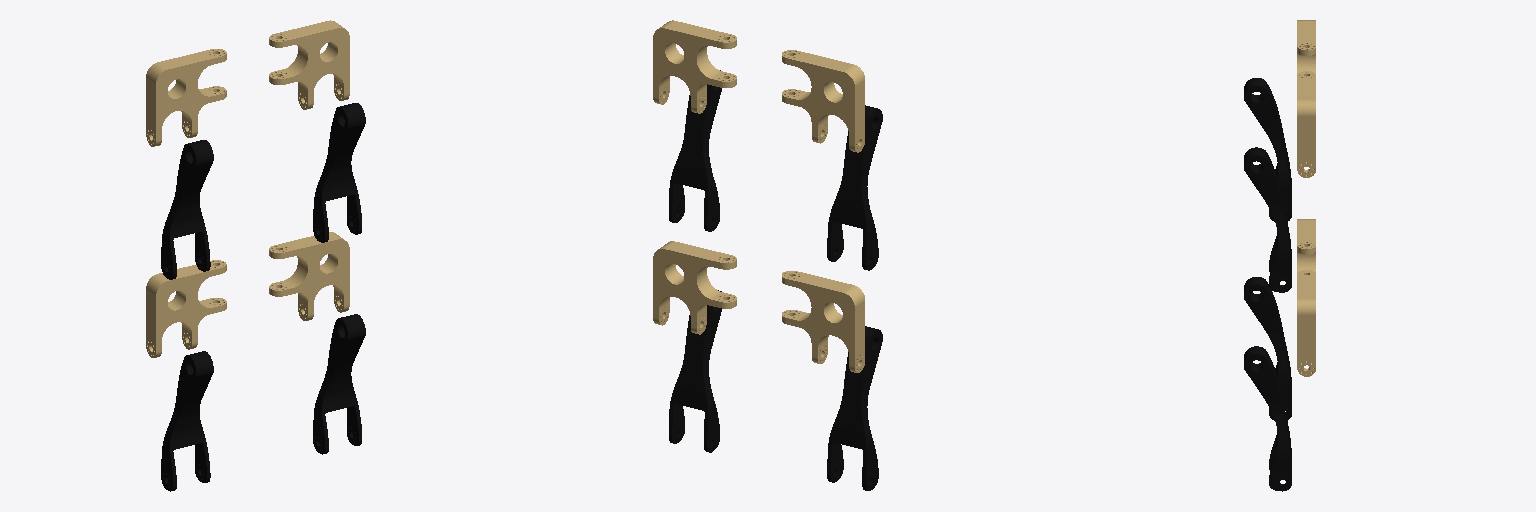
URDF robot description (quadruped):
<?xml version="1.0"?>
<robot name="quadruped">

  <!-- right is +x, top is +y, back is +z, -->

  <!-- Base body link -->
  <link name="body">
    <visual>
      <geometry>
        <mesh filename="../meshes/body_with_motor_v1.stl" scale="0.001 0.001 0.001"/>
      </geometry>
      <material name="body_color">
        <color rgba="0.4 0.5 0.3 1.0"/>
      </material>
    </visual>
  </link>

  <!-- back right coupler -->
  <link name="back_right_coupler">
    <visual>
      <geometry>
        <mesh filename="../meshes/coupler_v1.stl" scale="0.001 0.001 0.001"/>
      </geometry>
      <material name="coupler_color">
        <color rgba="0.8 0.7 0.5 1.0"/>
      </material>
    </visual>
  </link>

  <!-- back left coupler -->
  <link name="back_left_coupler">
    <visual>
      <geometry>
        <mesh filename="../meshes/coupler_v1.stl" scale="0.001 0.001 0.001"/>
      </geometry>
      <material name="coupler_color">
        <color rgba="0.8 0.7 0.5 1.0"/>
      </material>
    </visual>
  </link>

  <!-- front left coupler -->
  <link name="front_left_coupler">
    <visual>
      <geometry>
        <mesh filename="../meshes/coupler_v1.stl" scale="0.001 0.001 0.001"/>
      </geometry>
      <material name="coupler_color">
        <color rgba="0.8 0.7 0.5 1.0"/>
      </material>
    </visual>
  </link>
  
  <!-- front right coupler -->
  <link name="front_right_coupler">
    <visual>
      <geometry>
        <mesh filename="../meshes/coupler_v1.stl" scale="0.001 0.001 0.001"/>
      </geometry>
      <material name="coupler_color">
        <color rgba="0.8 0.7 0.5 1.0"/>
      </material>
    </visual>
  </link>

  <!-- back right upper leg -->
  <link name="back_right_upper_leg">
    <visual>
      <geometry>
        <mesh filename="../meshes/leg_upper_with_motor_v1.5.stl" scale="0.001 0.001 0.001"/>
      </geometry>
      <material name="leg_color">
        <color rgba="0.2 0.4 0.2 1.0"/>
      </material>
    </visual>
  </link>

  <!-- back left upper leg -->
  <link name="back_left_upper_leg">
    <visual>
      <geometry>
        <mesh filename="../meshes/leg_upper_with_motor_v1.5.stl" scale="0.001 0.001 0.001"/>
      </geometry>
      <material name="leg_color">
        <color rgba="0.2 0.4 0.2 1.0"/>
      </material>
    </visual>
  </link>

  <!-- front left upper leg -->
  <link name="front_left_upper_leg">
    <visual>
      <geometry>
        <mesh filename="../meshes/leg_upper_with_motor_v1.5.stl" scale="0.001 0.001 0.001"/>
      </geometry>
      <material name="leg_color">
        <color rgba="0.2 0.4 0.2 1.0"/>
      </material>
    </visual>
  </link>

  <!-- front right upper leg -->
  <link name="front_right_upper_leg">
    <visual>
      <geometry>
        <mesh filename="../meshes/leg_upper_with_motor_v1.5.stl" scale="0.001 0.001 0.001"/>
      </geometry>
      <material name="leg_color">
        <color rgba="0.2 0.4 0.2 1.0"/>
      </material>
    </visual>
  </link>

  <!-- back right lower leg -->
  <link name="back_right_lower_leg">
    <visual>
      <geometry>
        <mesh filename="../meshes/leg_lower_v3.stl" scale="0.001 0.001 0.001"/>
      </geometry>
      <material name="lower_leg_color">
        <color rgba="0.1 0.1 0.1 1.0"/>
      </material>
    </visual>
  </link>

  <!-- back left lower leg -->
  <link name="back_left_lower_leg">
    <visual>
      <geometry>
        <mesh filename="../meshes/leg_lower_v3.stl" scale="0.001 0.001 0.001"/>
      </geometry>
      <material name="lower_leg_color">
        <color rgba="0.1 0.1 0.1 1.0"/>
      </material>
    </visual>
  </link>

  <!-- front left lower leg -->
  <link name="front_left_lower_leg">
    <visual>
      <geometry>
        <mesh filename="../meshes/leg_lower_v3.stl" scale="0.001 0.001 0.001"/>
      </geometry>
      <material name="lower_leg_color">
        <color rgba="0.1 0.1 0.1 1.0"/>
      </material>
    </visual>
  </link>

  <!-- front right lower leg -->
  <link name="front_right_lower_leg">
    <visual>
      <geometry>
        <mesh filename="../meshes/leg_lower_v3.stl" scale="0.001 0.001 0.001"/>
      </geometry>
      <material name="lower_leg_color">
        <color rgba="0.1 0.1 0.1 1.0"/>
      </material>
    </visual>
  </link>

  <!-- Joint connecting body to back right coupler -->
  <joint name="back_right_hipX" type="revolute">
    <parent link="body"/>
    <child link="back_right_coupler"/>
    <origin xyz="0.0 0.0 0.0" rpy="0 0 3.14"/>
    <axis xyz="0 0 1"/>
    <limit lower="-1.57" upper="1.57" effort="10.0" velocity="5.0"/>
  </joint>

  <!-- Joint connecting body to back left coupler -->
  <joint name="back_left_hipX" type="revolute">
    <parent link="body"/>
    <child link="back_left_coupler"/>
    <origin xyz="0.1083 0.0 0.0" rpy="0 0 0.0"/>
    <axis xyz="0 0 1"/>
    <limit lower="-1.57" upper="1.57" effort="10.0" velocity="5.0"/>
  </joint>

  <!-- Joint connecting body to front left coupler -->
  <joint name="front_left_hipX" type="revolute">
    <parent link="body"/>
    <child link="front_left_coupler"/>
    <origin xyz="0.1083 -0.0 0.3491" rpy="0 0 0"/>
    <axis xyz="0 0 1"/>
    <limit lower="-1.57" upper="1.57" effort="10.0" velocity="5.0"/>
  </joint>

  <!-- Joint connecting body to front right coupler -->
  <joint name="front_right_hipX" type="revolute">
    <parent link="body"/>
    <child link="front_right_coupler"/>
    <origin xyz="0.0 -0.0 0.3491" rpy="0 0 3.14"/>
    <axis xyz="0 0 1"/>
    <limit lower="-1.57" upper="1.57" effort="10.0" velocity="5.0"/>
  </joint>

  <!-- Joint connecting back right coupler to upper leg -->
  <joint name="back_right_hipY" type="revolute">
    <parent link="back_right_coupler"/>
    <child link="back_right_upper_leg"/>
    <origin xyz="0.077 0.0 -0.077" rpy="0 1.57 3.14"/>
    <axis xyz="0 0 1"/>
    <limit lower="-1.57" upper="1.57" effort="10.0" velocity="5.0"/>
  </joint>

  <!-- Joint connecting back left coupler to upper leg -->
  <joint name="back_left_hipY" type="revolute">
    <parent link="back_left_coupler"/>
    <child link="back_left_upper_leg"/>
    <origin xyz="0.077 0.0 -0.077" rpy="0 1.57 0.0"/>
    <axis xyz="0 0 1"/>
    <limit lower="-1.57" upper="1.57" effort="10.0" velocity="5.0"/>
  </joint>

  <!-- Joint connecting front left coupler to upper leg -->
  <joint name="front_left_hipY" type="revolute">
    <parent link="front_left_coupler"/>
    <child link="front_left_upper_leg"/>
    <origin xyz="0.077 0.0 -0.077" rpy="0 1.57 0"/>
    <axis xyz="0 0 1"/>
    <limit lower="-1.57" upper="1.57" effort="10.0" velocity="5.0"/>
  </joint>

  <!-- Joint connecting front right coupler to upper leg -->
  <joint name="front_right_hipY" type="revolute">
    <parent link="front_right_coupler"/>
    <child link="front_right_upper_leg"/>
    <origin xyz="0.077 0.0 -0.077" rpy="0 1.57 3.14"/>
    <axis xyz="0 0 1"/>
    <limit lower="-1.57" upper="1.57" effort="10.0" velocity="5.0"/>
  </joint>

  <!-- Joint connecting back right upper leg to lower leg -->
  <joint name="back_right_knee" type="revolute">
    <parent link="back_right_upper_leg"/>
    <child link="back_right_lower_leg"/>
    <origin xyz="0.203 -0.038 0.0" rpy="0 3.14 0"/>
    <axis xyz="0 0 1"/>
    <limit lower="-1.57" upper="1.57" effort="10.0" velocity="5.0"/>
  </joint>

  <!-- Joint connecting back left upper leg to lower leg -->
  <joint name="back_left_knee" type="revolute">
    <parent link="back_left_upper_leg"/>
    <child link="back_left_lower_leg"/>
    <origin xyz="0.203 -0.038 0.0" rpy="0 3.14 0"/>
    <axis xyz="0 0 1"/>
    <limit lower="-1.57" upper="1.57" effort="10.0" velocity="5.0"/>
  </joint>

  <!-- Joint connecting front left upper leg to lower leg -->
  <joint name="front_left_knee" type="revolute">
    <parent link="front_left_upper_leg"/>
    <child link="front_left_lower_leg"/>
    <origin xyz="0.203 -0.038 0.0" rpy="0 3.14 0"/>
    <axis xyz="0 0 1"/>
    <limit lower="-1.57" upper="1.57" effort="10.0" velocity="5.0"/>
  </joint>

  <!-- Joint connecting front right upper leg to lower leg -->
  <joint name="front_right_knee" type="revolute">
    <parent link="front_right_upper_leg"/>
    <child link="front_right_lower_leg"/>
    <origin xyz="0.203 -0.038 0.0" rpy="0 3.14 0"/>
    <axis xyz="0 0 1"/>
    <limit lower="-1.57" upper="1.57" effort="10.0" velocity="5.0"/>
  </joint>

</robot>

--- Facts derived from the render (not from the file) ---
3 views of the same robot in one strip: view 1: azimuth 30°, elevation 25°; view 2: azimuth 150°, elevation 25°; view 3: azimuth 270°, elevation 25° (orthographic).
Model quadruped with 13 links and 12 joints (12 revolute), rooted at body, posed all joints at 0.
Visible links, largest first — view 1: front_right_coupler, front_left_coupler, back_right_coupler, back_left_coupler, back_right_lower_leg, front_right_lower_leg, back_left_lower_leg, front_left_lower_leg; view 2: front_right_coupler, back_right_coupler, back_left_coupler, front_left_coupler, back_right_lower_leg, front_right_lower_leg, back_left_lower_leg, front_left_lower_leg; view 3: front_left_lower_leg, back_left_lower_leg, front_right_lower_leg, back_right_lower_leg, front_left_coupler, back_left_coupler, front_right_coupler, back_right_coupler.
Link boxes in pixels (x1,y1,x2,y2): front_right_coupler: (146,49,226,146); front_left_coupler: (269,20,349,109); back_right_coupler: (146,260,226,357); back_left_coupler: (269,232,349,320); back_right_lower_leg: (161,351,213,491); front_right_lower_leg: (161,140,213,279); back_left_lower_leg: (313,314,365,454); front_left_lower_leg: (313,103,365,242); front_right_coupler: (782,50,864,152); back_right_coupler: (782,271,864,372); back_left_coupler: (653,241,736,334); front_left_coupler: (653,20,736,113); back_right_lower_leg: (827,326,882,490); front_right_lower_leg: (827,105,882,270); back_left_lower_leg: (669,290,721,452); front_left_lower_leg: (669,70,721,231); front_left_lower_leg: (1244,147,1291,292); back_left_lower_leg: (1244,346,1291,491); front_right_lower_leg: (1244,78,1291,221); back_right_lower_leg: (1244,277,1291,420); front_left_coupler: (1297,71,1315,177); back_left_coupler: (1297,270,1315,376); front_right_coupler: (1297,20,1315,73); back_right_coupler: (1297,219,1315,272).
Bounding box of the posed robot: 0.3343 × 0.1155 × 0.6802 m (x, y, z).
Meshes: 4 distinct files referenced, 8 mesh visuals loaded (2 binary STL); not drawn: 5 (reference not matched to a file when rendering).